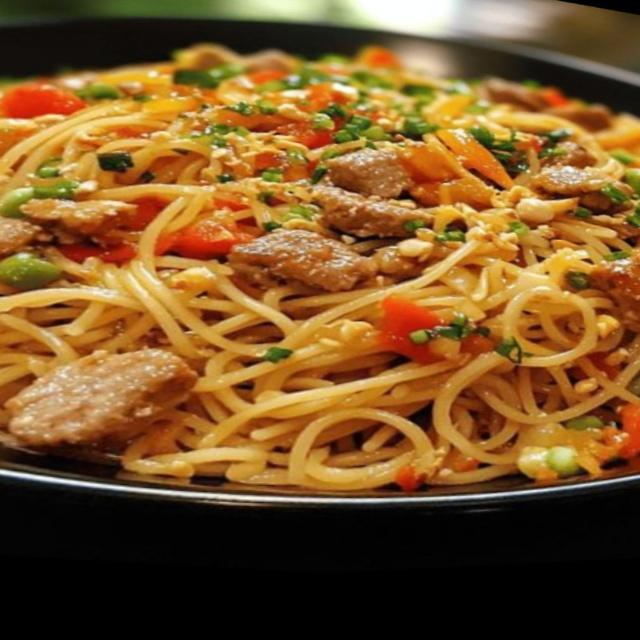pancit bihon: (0, 61, 639, 477)
